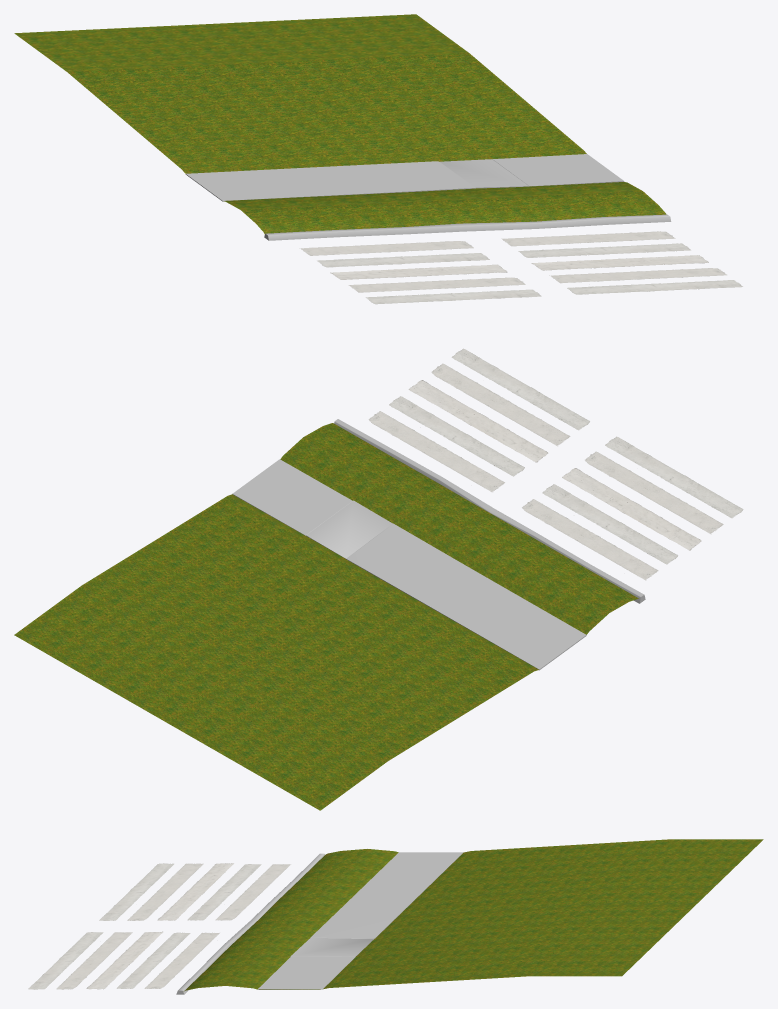
File: Road_8x_40.fbx
3 renders of one model, top to bottom at view 1: azimuth 30°, elevation 25°; view 2: azimuth 150°, elevation 25°; view 3: azimuth 270°, elevation 25°, orthographic. The views are drawn at different scales.
Parts seen in each view (by area): view 1: Road_8x_40; view 2: Road_8x_40; view 3: Road_8x_40.
Part boxes in pixels (box(x1,y1,x2,y2)): Road_8x_40: box(14, 14, 742, 304); Road_8x_40: box(14, 348, 743, 810); Road_8x_40: box(28, 839, 763, 994).
Size of the model in its own units: 801 by 50.07 by 1850.
